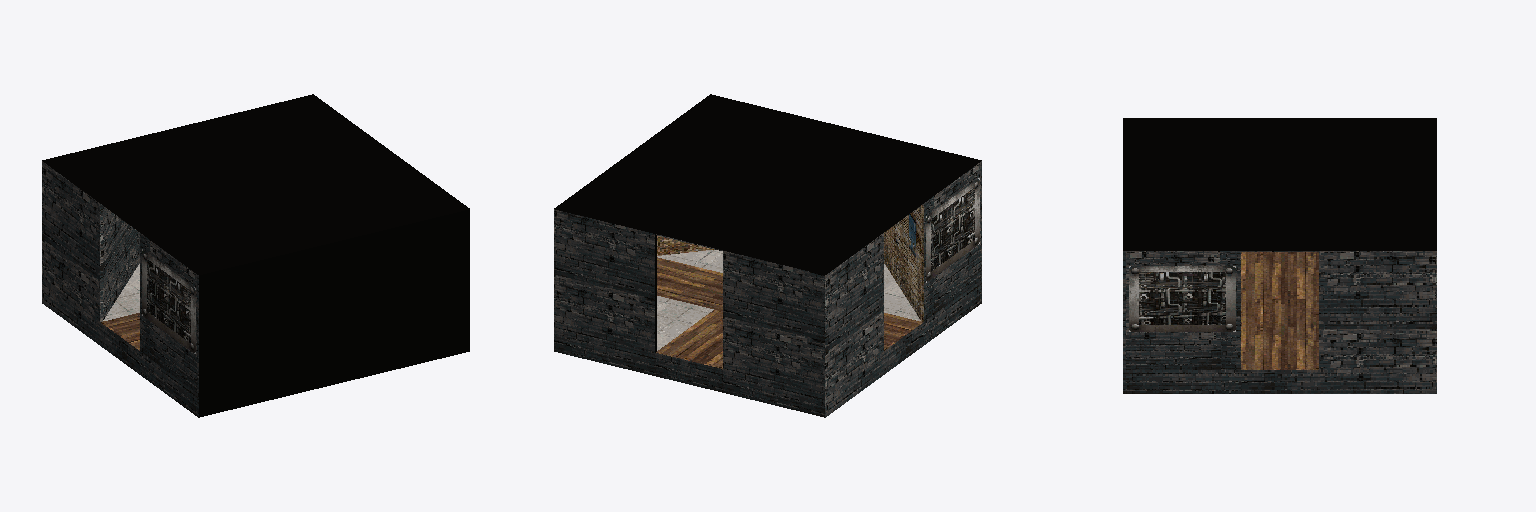
3 renders of one model, left to right at view 1: azimuth 30°, elevation 25°; view 2: azimuth 150°, elevation 25°; view 3: azimuth 270°, elevation 25°, orthographic.
Visible parts, largest first — view 1: RightLeft; view 2: RightLeft; view 3: RightLeft.
Boxes of the visible parts, <box> form: RightLeft: <box>42,94,469,417</box>; RightLeft: <box>554,94,981,417</box>; RightLeft: <box>1123,118,1436,393</box>.
Bounding box in the file's own units: 12 × 6 × 12.
1 materials, 1 textured.